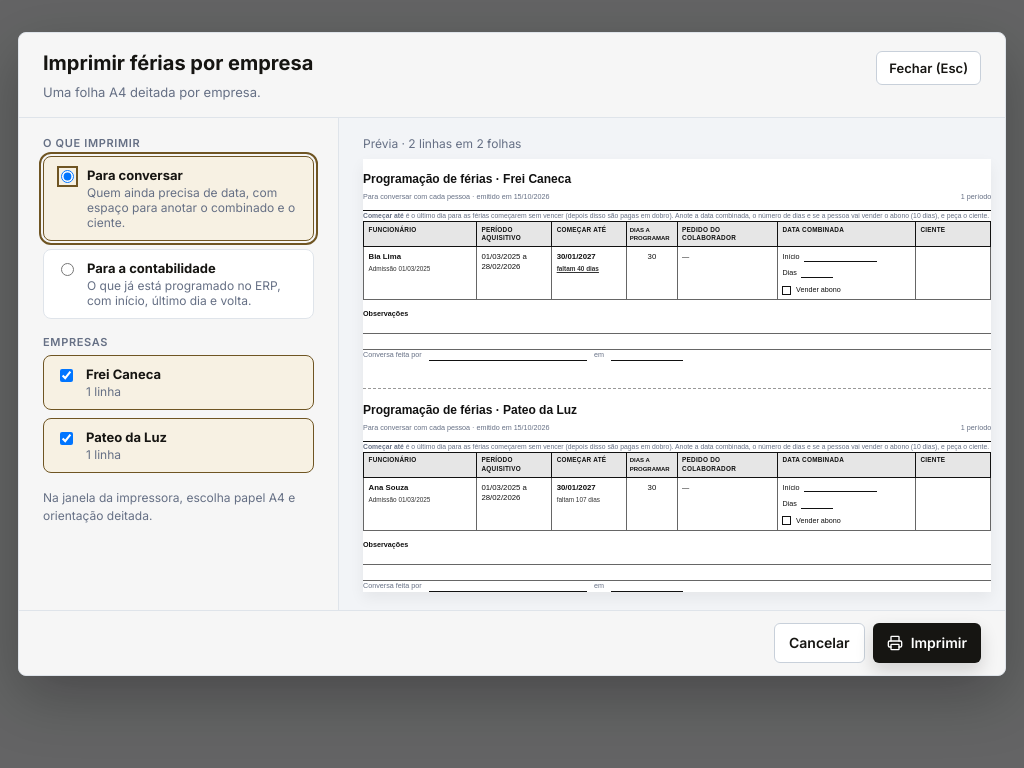
Test: ImpressaoFerias › o modo da contabilidade lista só o que está programado, com fim e volta
Click the radio button labelled "Para a contabilidade": (68,269) [61, 262, 74, 276]
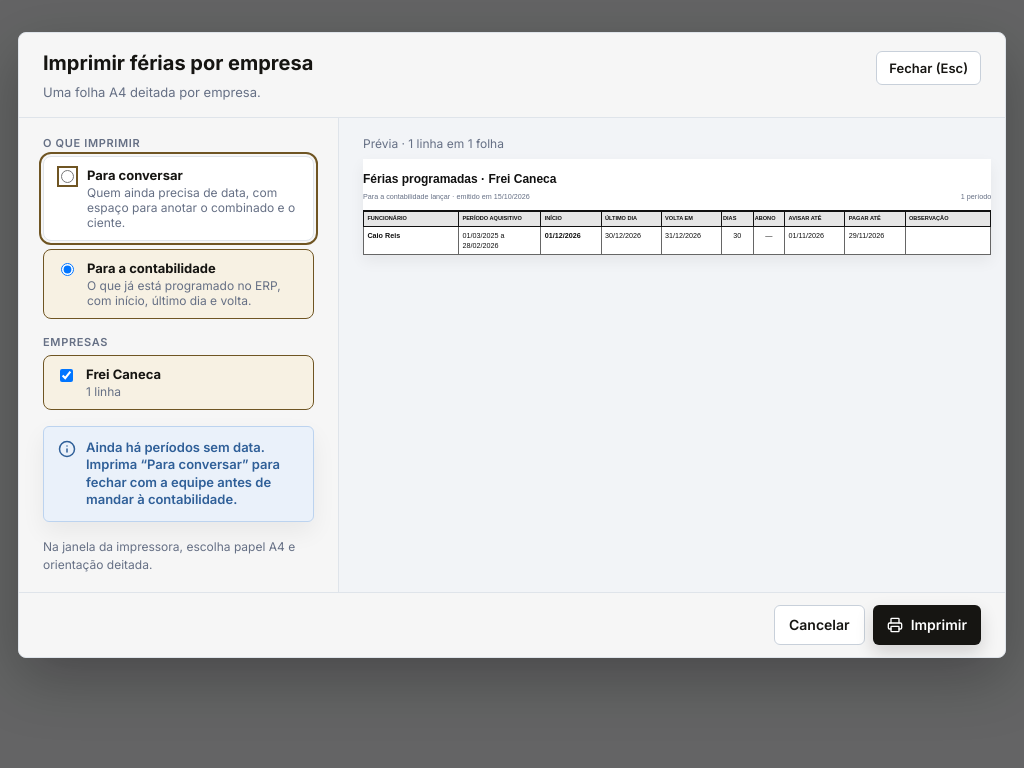
Now the text "Caio Reis" is shown, box [367, 231, 400, 240]
Now the text "30/12/2026" is shown, box [601, 227, 661, 254]
Now the text "31/12/2026" is shown, box [661, 227, 721, 254]
